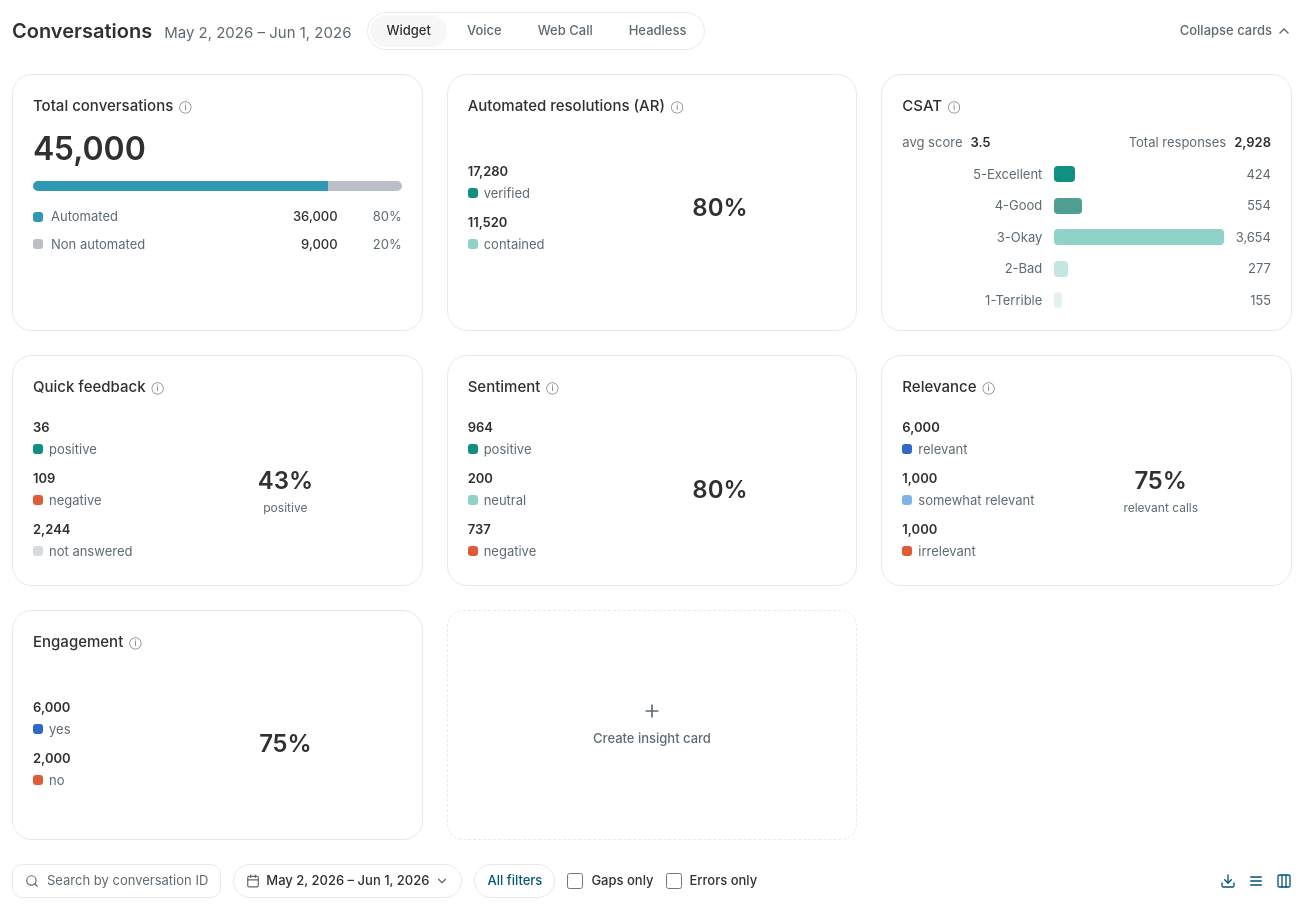
Scenario: ConversationsView › swaps in the A2A cards when Headless is selected
Click the tab "Headless".
click(658, 31)  # box x1=613 y1=15 x2=702 y2=46
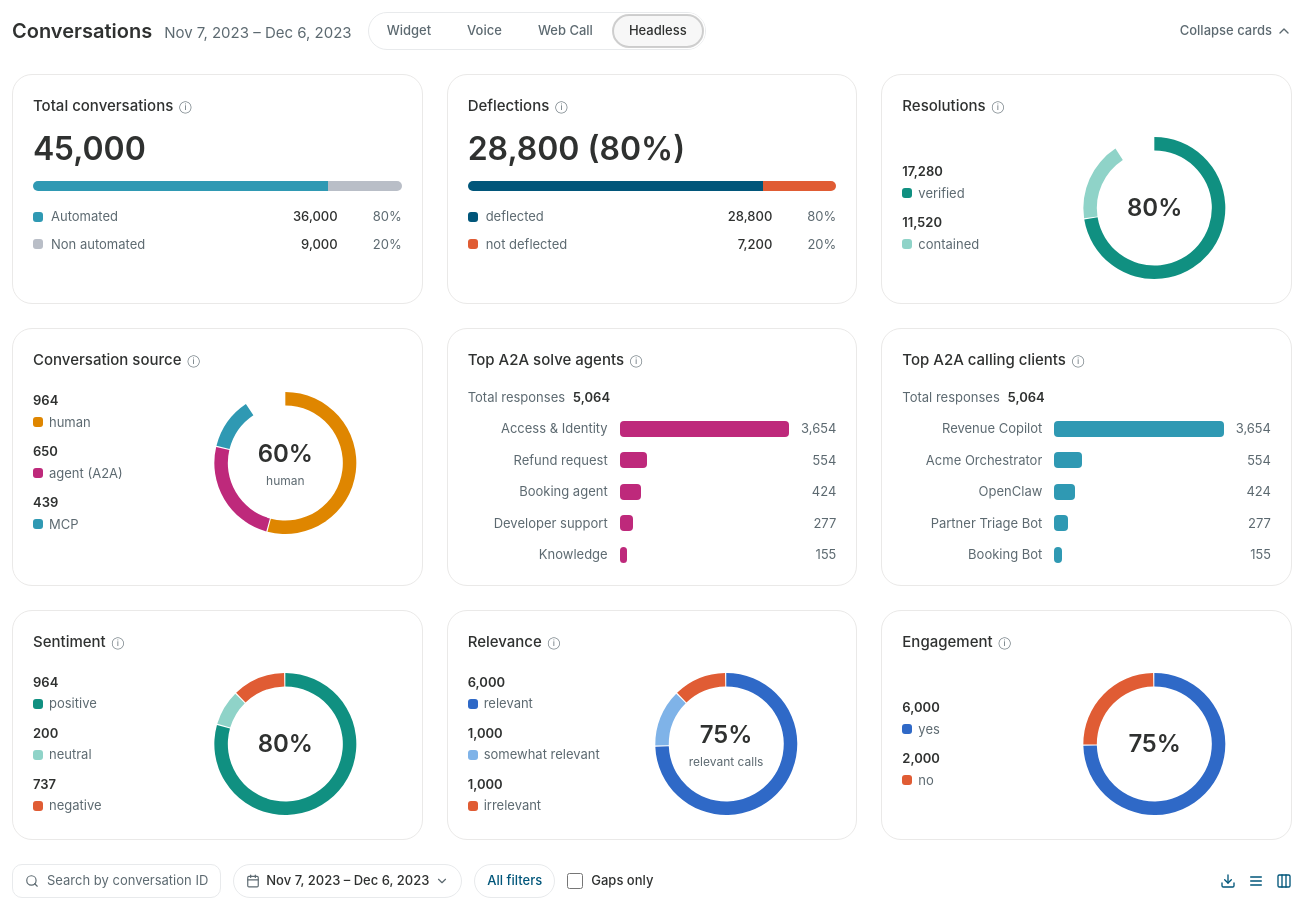
expect the heading "CSAT" is gone: met
expect the heading "Top A2A solve agents ⓘ" is shown: met, box x1=468 y1=350 x2=642 y2=369
expect the heading "Top A2A calling clients ⓘ" is shown: met, box x1=902 y1=350 x2=1084 y2=369
